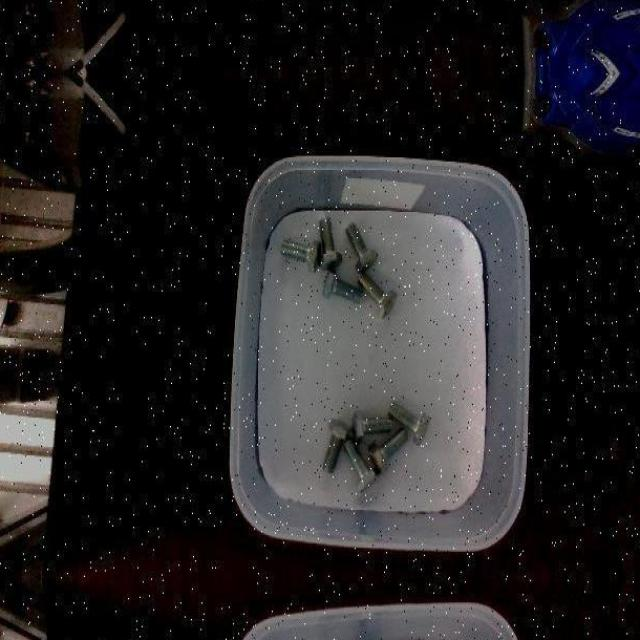screw: (368, 426, 409, 474), (388, 400, 431, 444), (344, 436, 378, 491), (358, 272, 398, 318), (344, 222, 378, 274), (322, 266, 362, 304), (322, 418, 349, 473), (352, 408, 392, 443), (281, 239, 321, 271), (319, 216, 343, 269)
